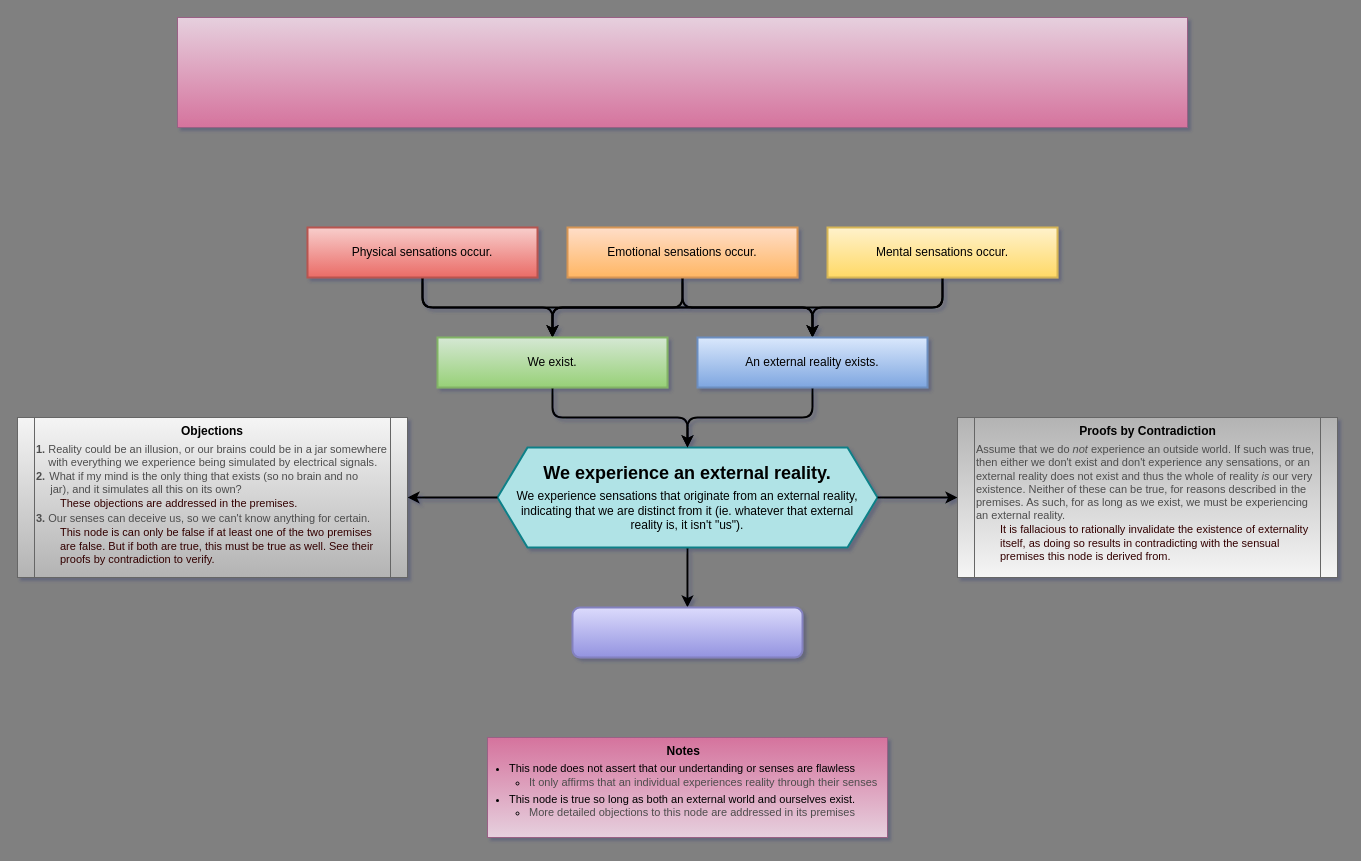
Some shapes in this 1361 by 861 pixel diagram are drawn without their labels. The shapes that lost their labels are listed below. From the top down, each one's centre as x and y in pixels, then its label:
At (682,72): "How Objective Truths Lead to Islam Through Reason Proving Existence (Node 3)".
At (687,632): "Information exists.".
